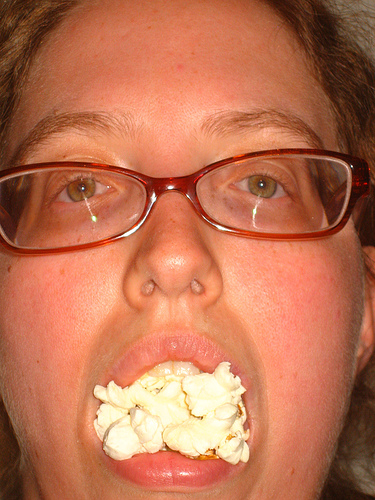corn: (91, 356, 256, 466)
